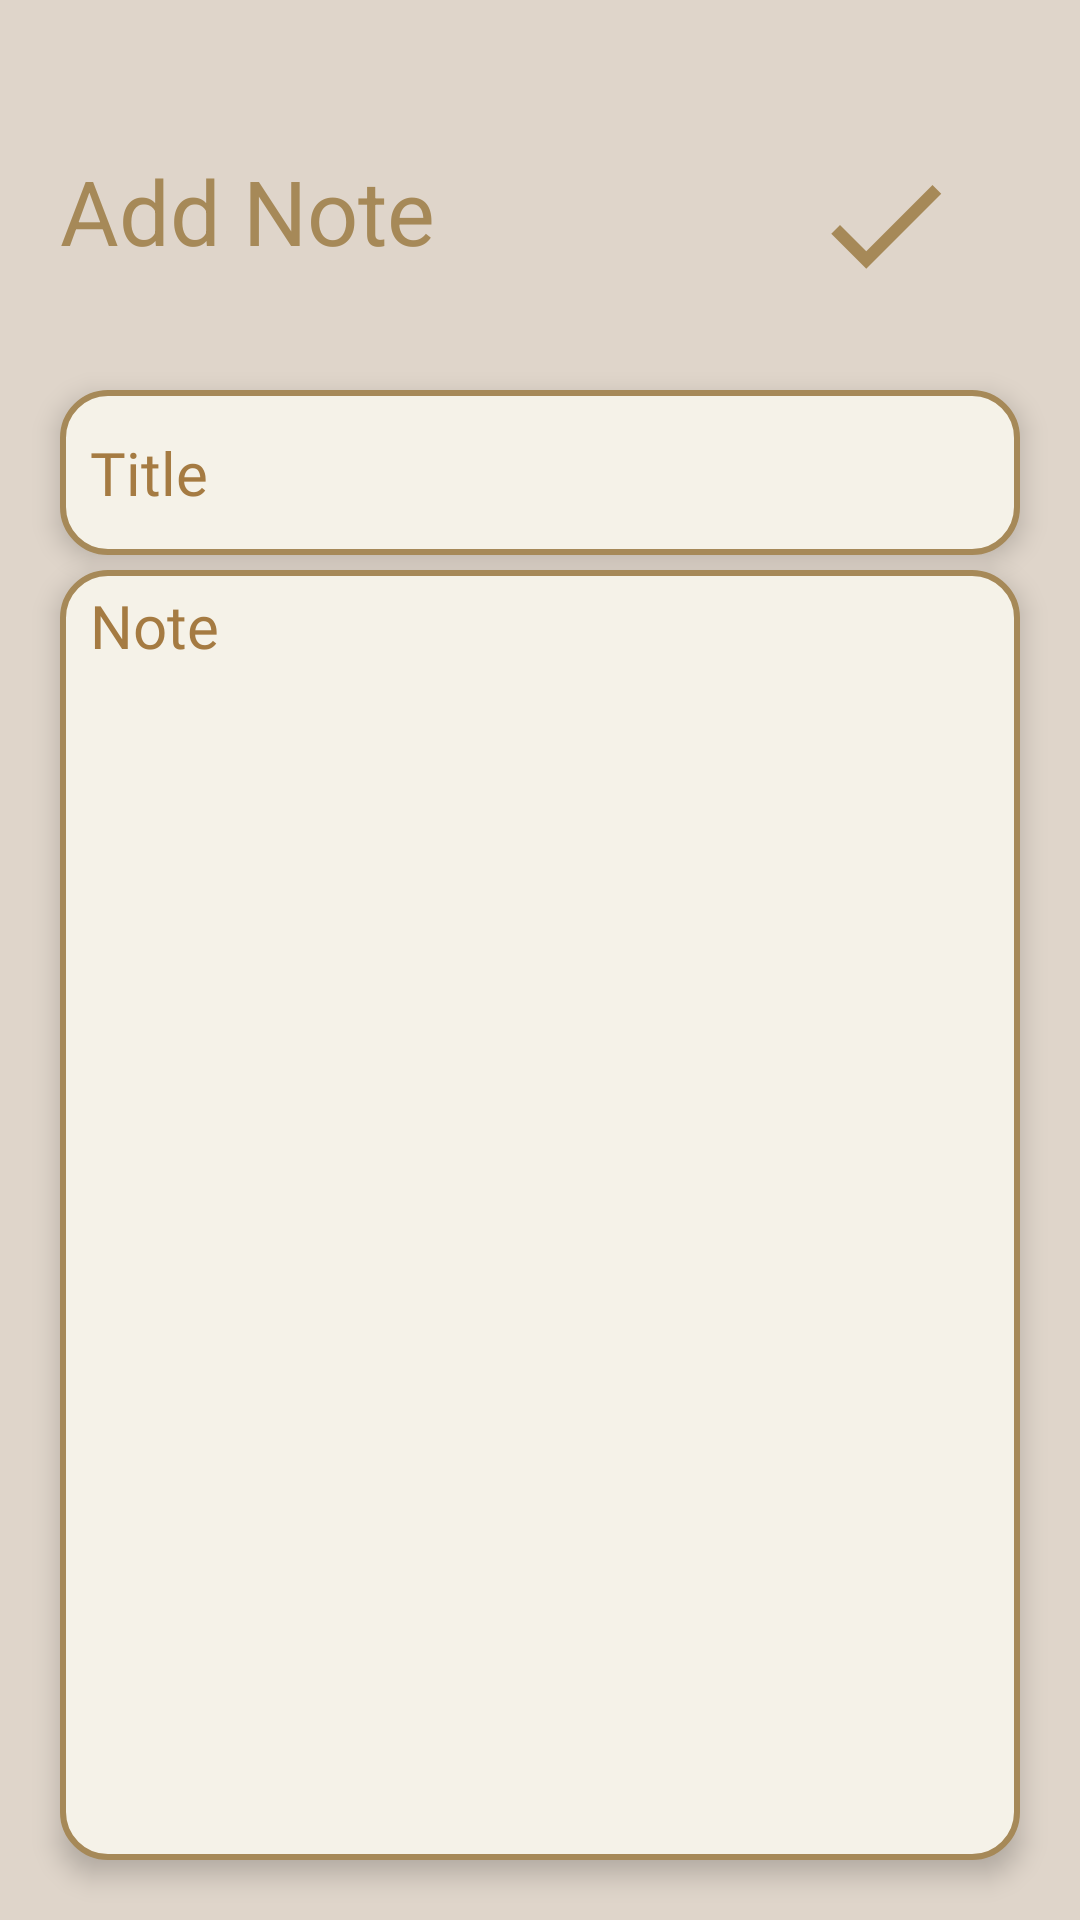

Where icons sit on this 1080x1920 app screen, as (x1, y1, x2, y2):
done: (831, 185, 941, 269)
